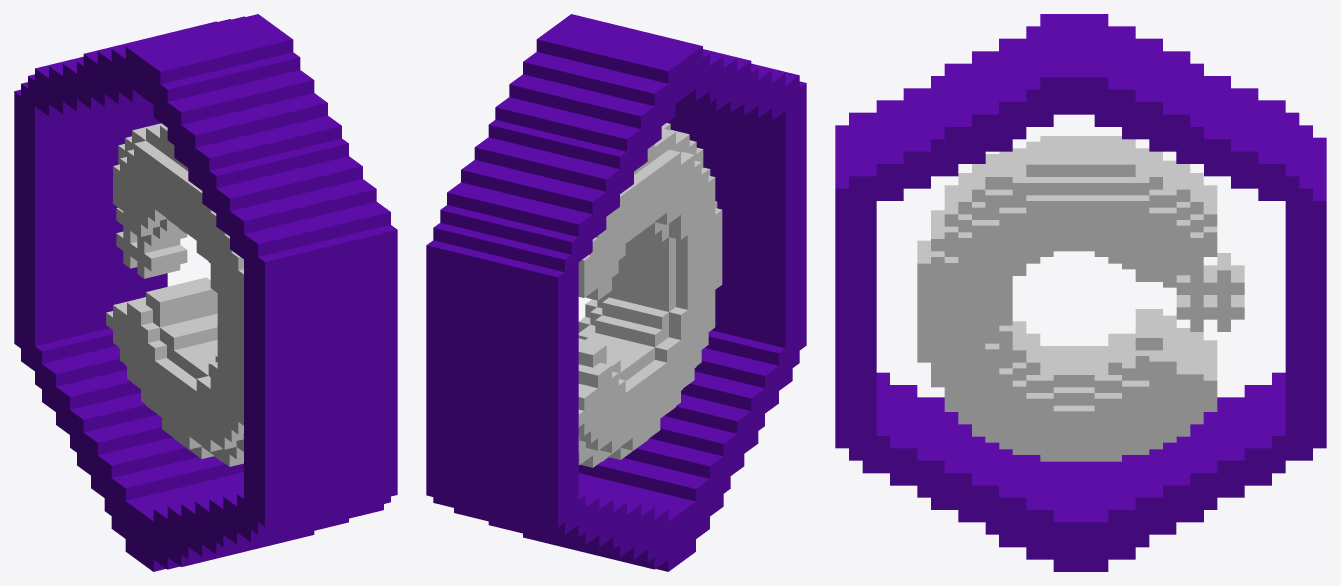
File: area_transdigital_01.gltf
3 renders of one model, left to right at view 1: azimuth 30°, elevation 25°; view 2: azimuth 150°, elevation 25°; view 3: azimuth 270°, elevation 25°, orthographic. The views are drawn at different scales.
Visible parts, largest first — view 1: numeralblend.001, numeralblend; view 2: numeralblend.001, numeralblend; view 3: numeralblend.001, numeralblend.
Part boxes in pixels (x1,y1,x2,y2): numeralblend.001: (14,14,397,571); numeralblend: (106,123,243,466); numeralblend.001: (426,14,806,571); numeralblend: (578,123,722,467); numeralblend.001: (835,14,1326,571); numeralblend: (917,136,1244,461).
Bounding box in the file's own units: 1.1 × 4 × 3.6.
